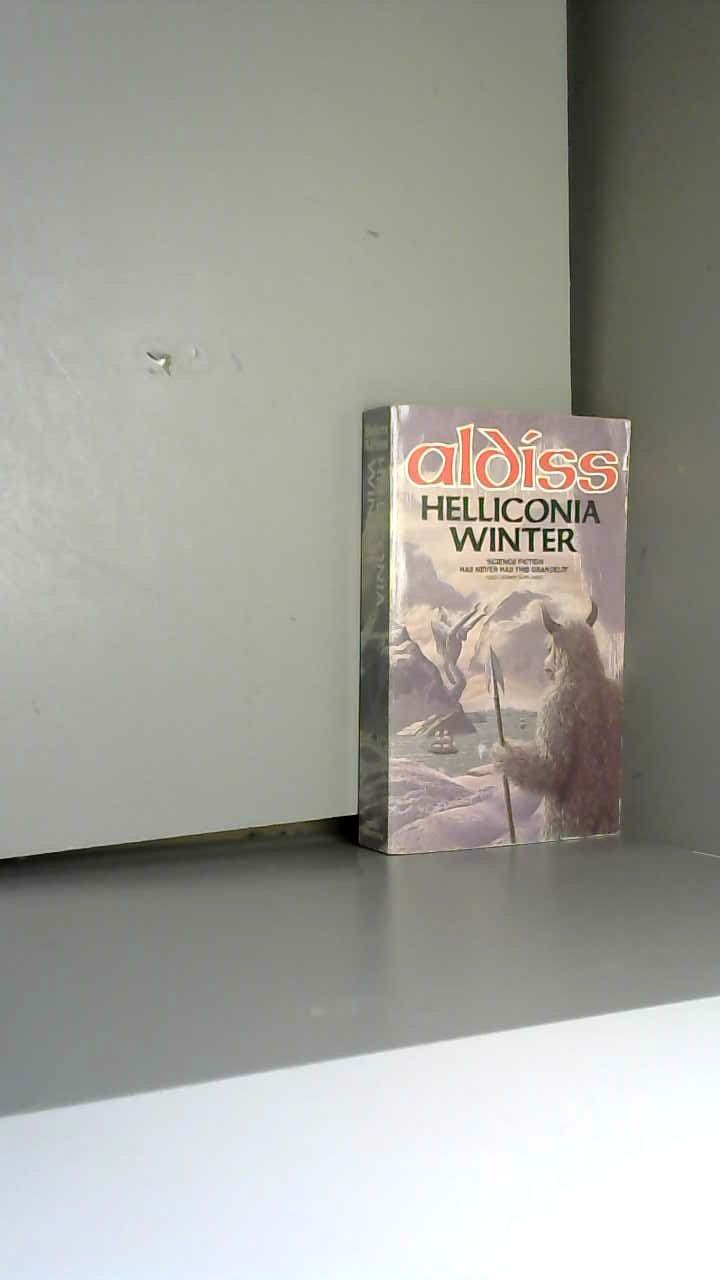book: (330, 380, 720, 939)
